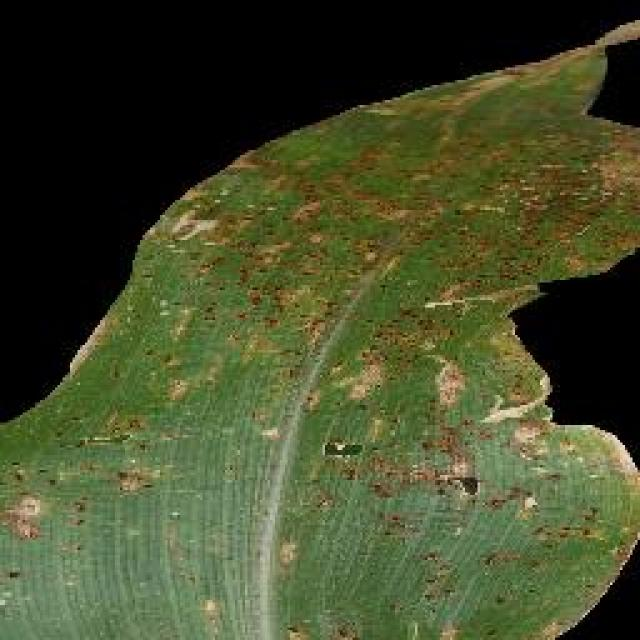Corn Common Rust: (185, 67, 502, 508)
